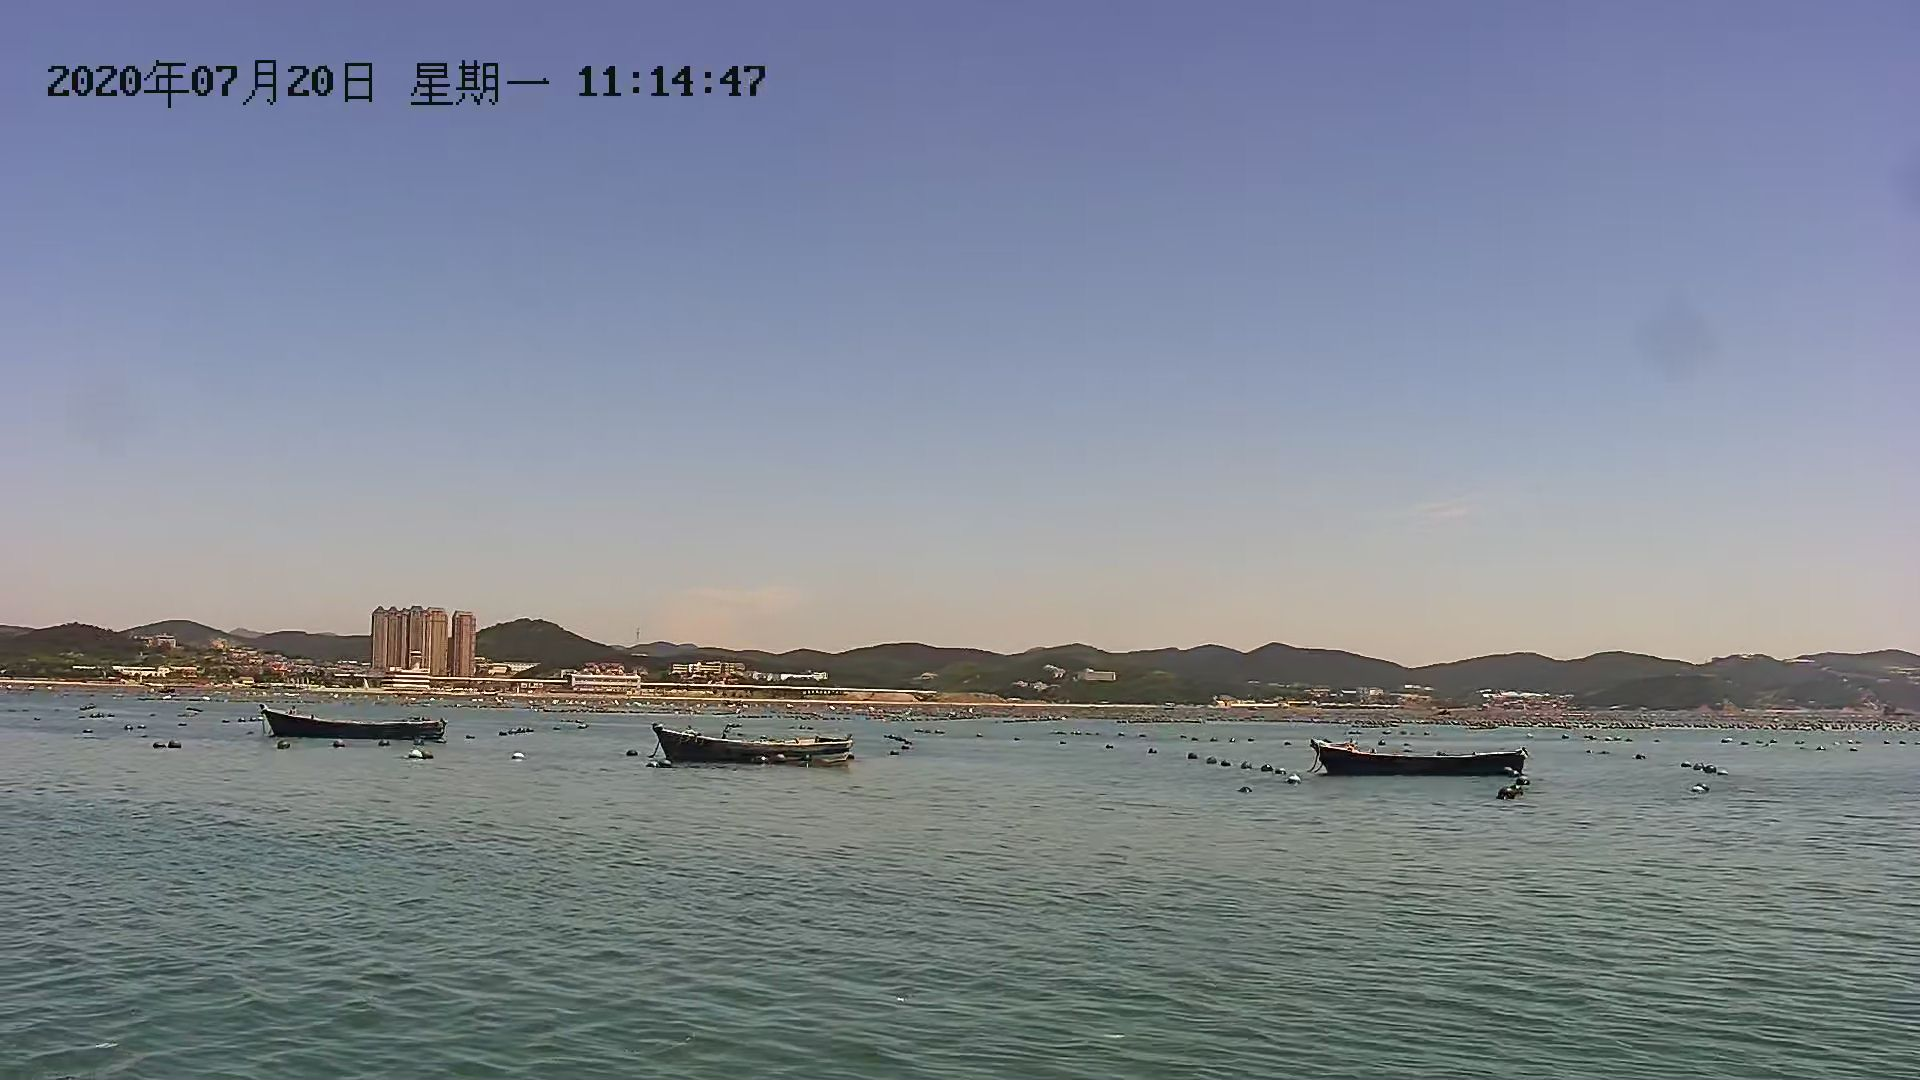boat: (644, 720, 855, 764), (1304, 738, 1542, 775), (256, 708, 458, 746)
